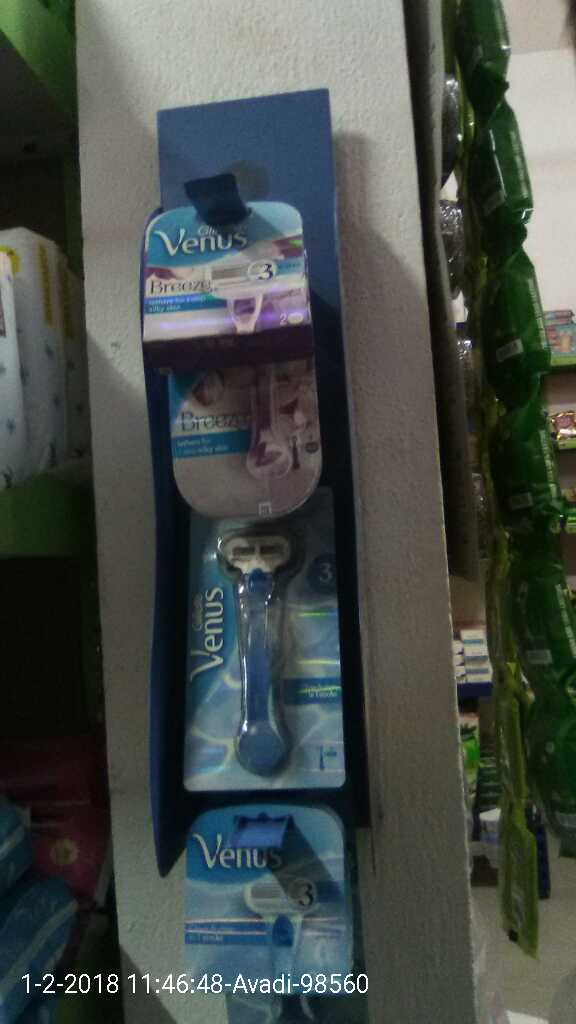venus: (182, 519, 351, 792), (173, 799, 370, 978), (139, 185, 328, 349)
